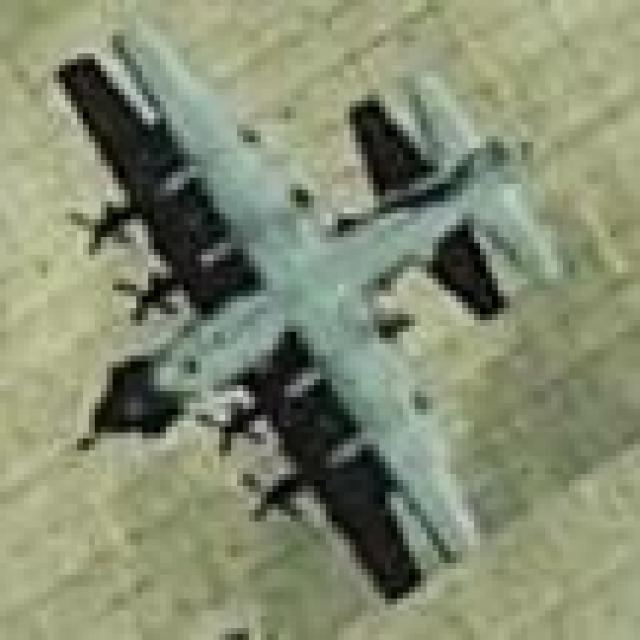C-130_TopDown: (43, 24, 572, 602)
